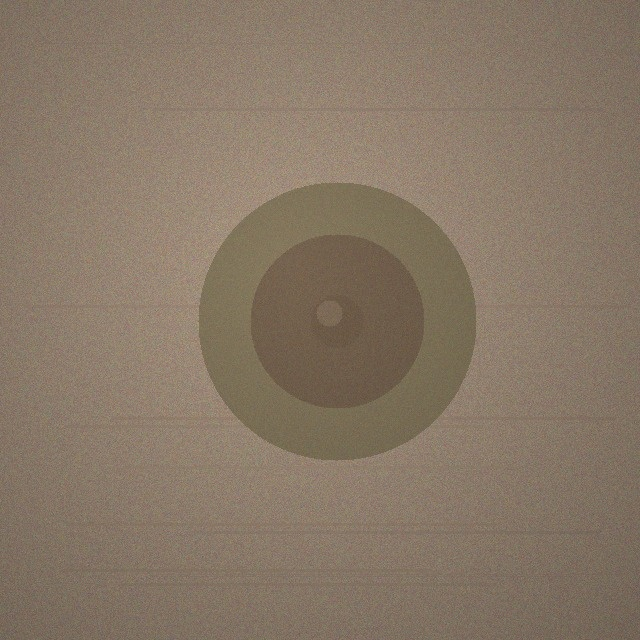good: (198, 182, 476, 460)
